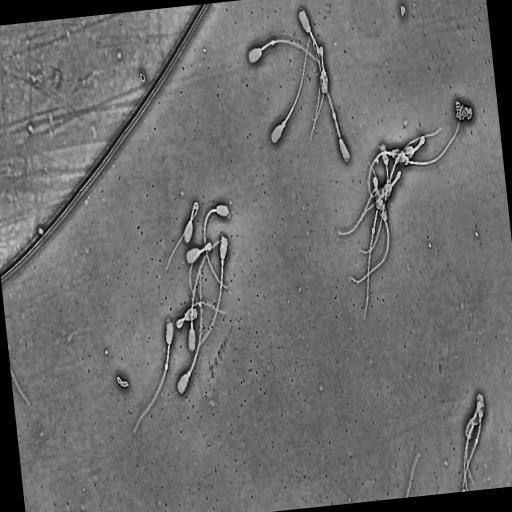dirt-particles: (451, 97, 477, 126), (115, 372, 131, 392), (397, 0, 409, 19)
distal-droplet: (271, 39, 275, 46), (316, 47, 320, 54), (165, 363, 168, 371), (372, 227, 375, 234), (333, 113, 336, 119), (476, 438, 478, 444)
folded-tail: (338, 171, 401, 234), (167, 202, 198, 268), (189, 243, 212, 311), (464, 402, 481, 489), (309, 47, 324, 139), (176, 301, 226, 328), (378, 136, 425, 156)
normal: (268, 22, 313, 149), (129, 316, 174, 442), (312, 37, 351, 164), (187, 236, 227, 354), (334, 171, 398, 235), (197, 235, 230, 351), (176, 267, 203, 395), (297, 8, 321, 131), (362, 143, 388, 254), (363, 187, 385, 318), (203, 202, 233, 296), (163, 198, 200, 274), (247, 36, 326, 67), (463, 393, 485, 491), (309, 44, 329, 141), (186, 241, 212, 314), (463, 402, 481, 489), (175, 300, 227, 330), (379, 136, 425, 158), (371, 149, 405, 167), (368, 167, 378, 198)
proximal-droplet: (281, 121, 286, 128), (187, 371, 191, 378), (191, 321, 194, 329), (221, 259, 224, 266), (389, 151, 391, 155), (393, 149, 393, 151)
